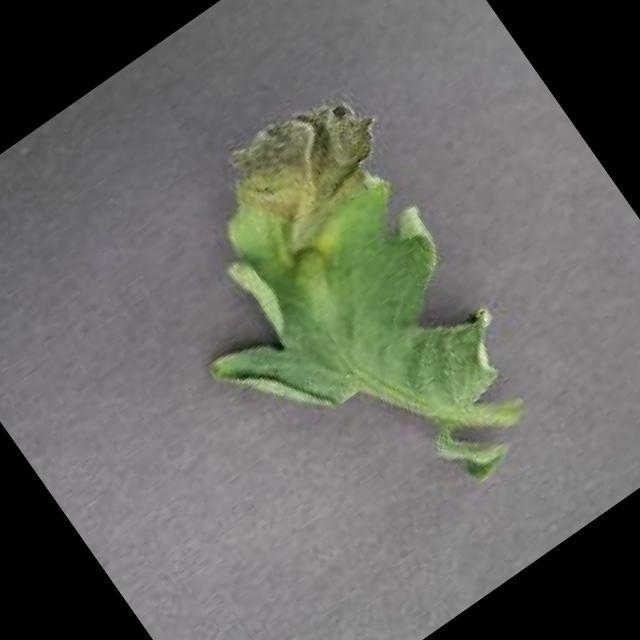Tomato late blight leaf: (110, 70, 542, 523)
